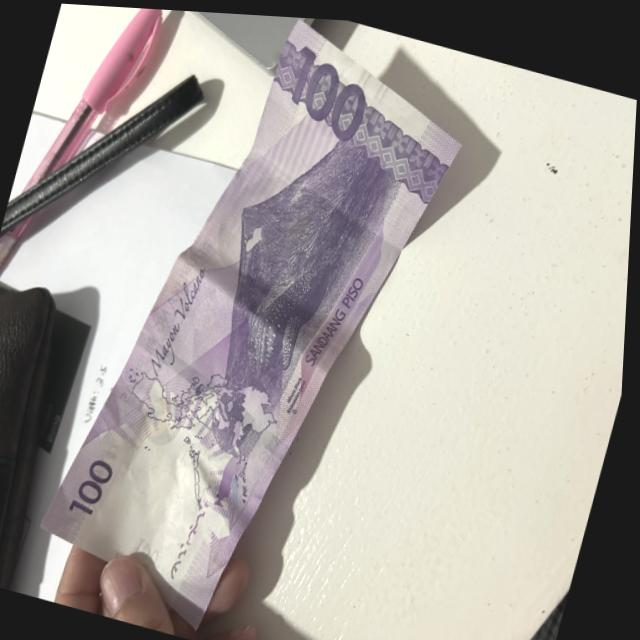100_whale: (246, 238, 340, 401)
100_whale_watermark: (213, 446, 253, 508)
value_watermark: (136, 526, 170, 570)
